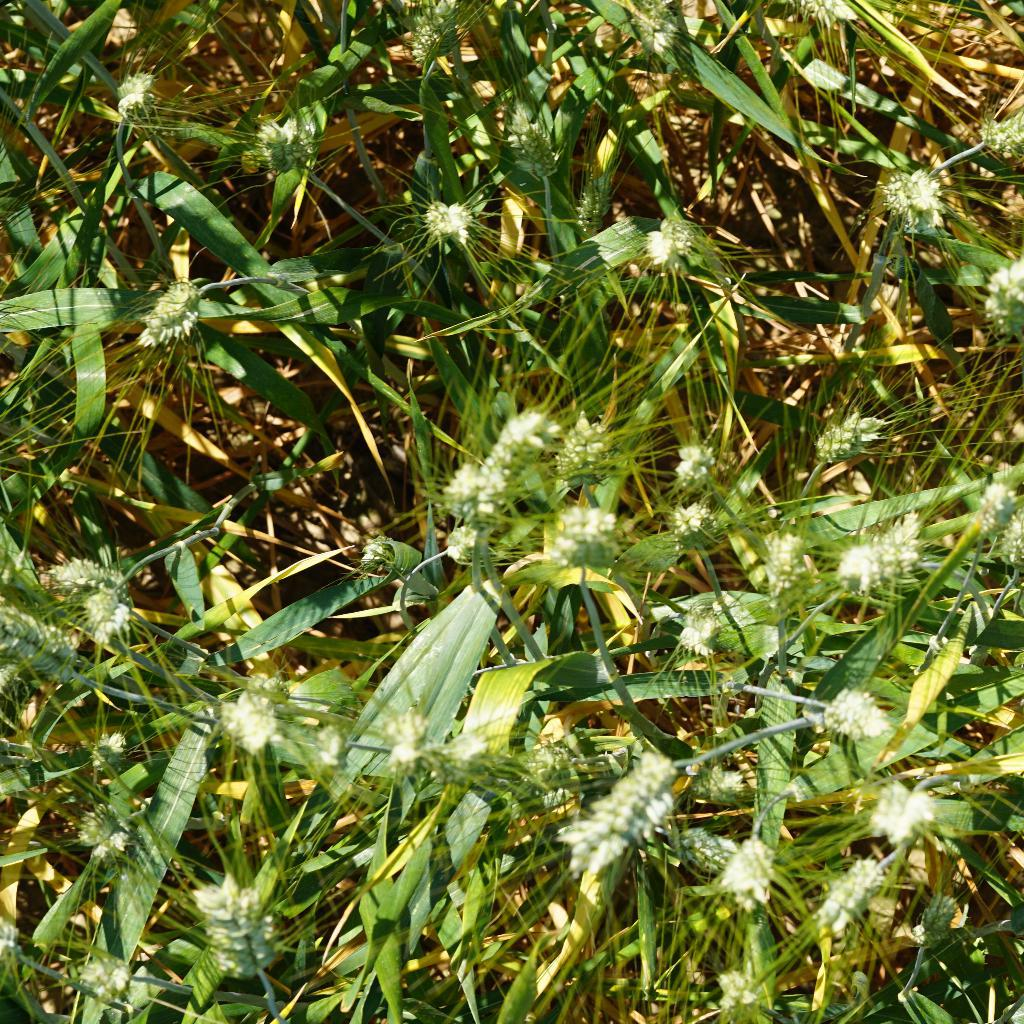0-0: (185, 874, 283, 990), (583, 736, 688, 843), (0, 601, 97, 694), (811, 852, 911, 931), (496, 94, 576, 189), (464, 402, 546, 485), (833, 524, 929, 589), (215, 687, 291, 759), (556, 496, 626, 574), (55, 942, 146, 1002), (77, 795, 146, 874), (878, 157, 948, 234), (720, 829, 789, 907), (871, 770, 942, 844), (545, 818, 632, 877), (806, 679, 889, 740), (550, 411, 617, 485), (912, 880, 969, 965), (759, 515, 814, 601), (433, 716, 503, 783), (369, 695, 428, 774), (665, 598, 736, 662), (687, 757, 768, 813), (813, 408, 890, 466), (138, 276, 204, 343), (703, 964, 776, 1024), (972, 251, 1024, 332), (224, 663, 299, 717), (672, 822, 750, 873), (240, 120, 314, 172), (965, 103, 1024, 168), (970, 473, 1015, 555), (574, 152, 616, 239), (74, 579, 139, 635), (408, 0, 464, 64), (436, 464, 504, 516), (418, 197, 486, 249), (671, 493, 729, 553), (292, 721, 357, 774), (43, 559, 124, 601), (73, 714, 131, 772), (778, 0, 864, 37), (673, 436, 727, 493), (628, 0, 681, 56), (344, 529, 400, 579), (641, 217, 698, 265), (112, 64, 163, 116), (437, 524, 492, 570), (998, 495, 1024, 580)
